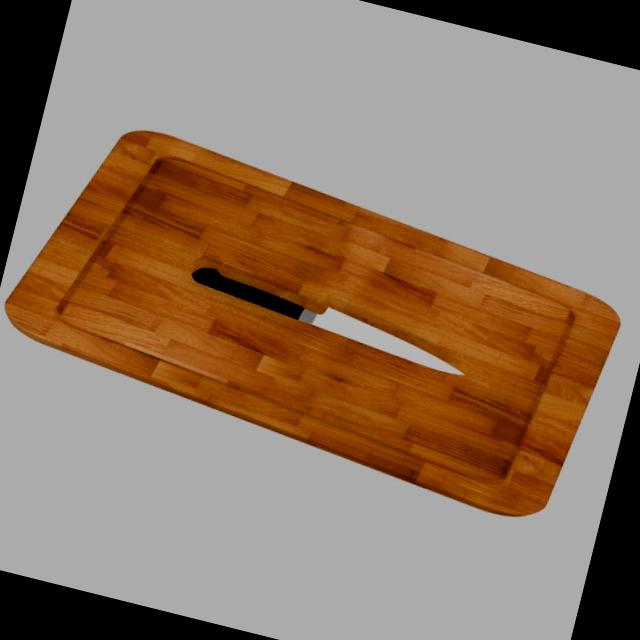knife: (185, 263, 308, 321)
